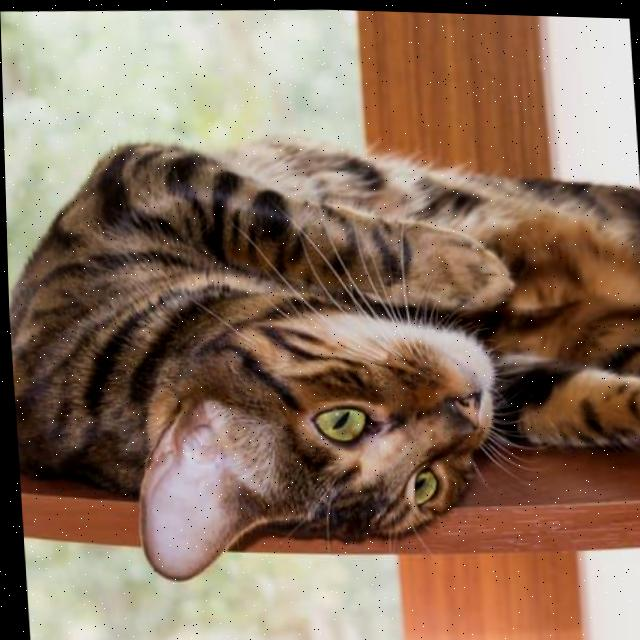Toyger: (2, 103, 640, 599)
